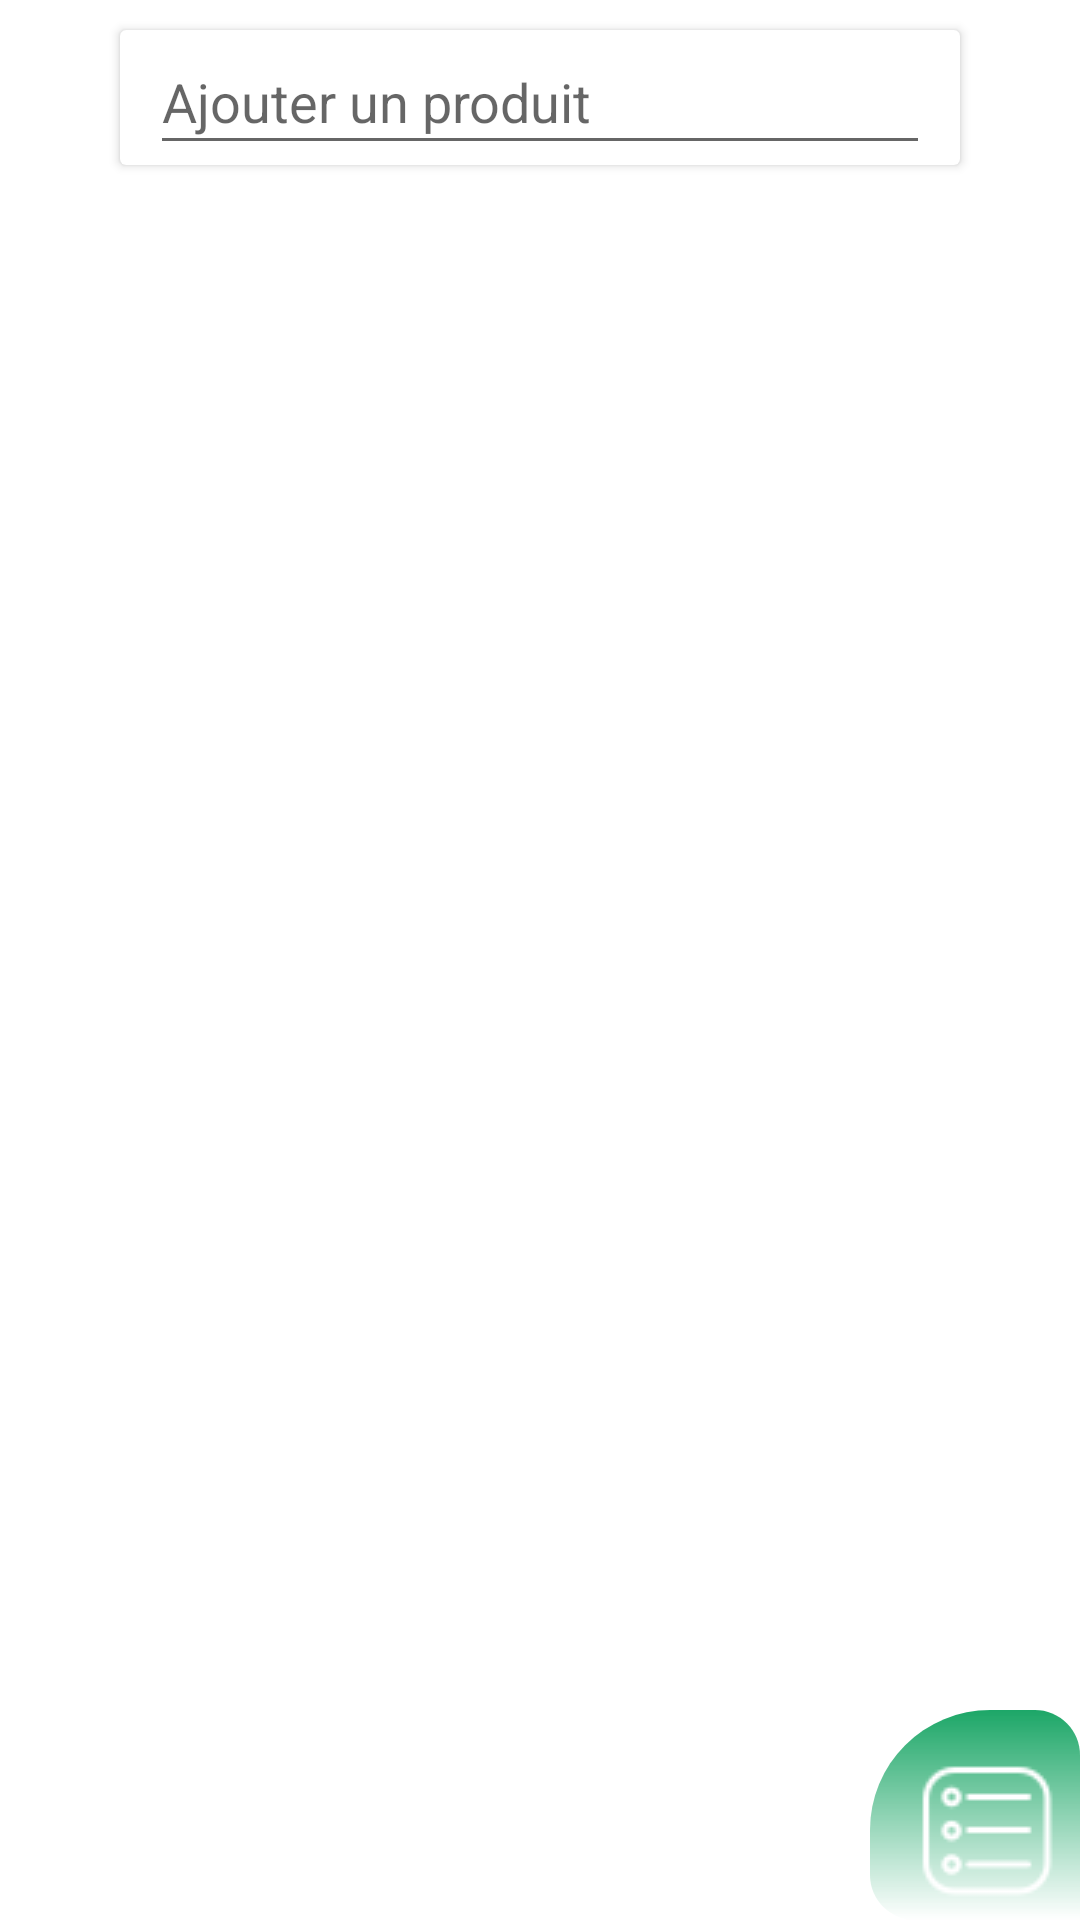

Where icons sit on this 1080 x 1920 app screen, as [x1, y1, x2, y2]:
lister: [870, 1710, 1080, 1898]
